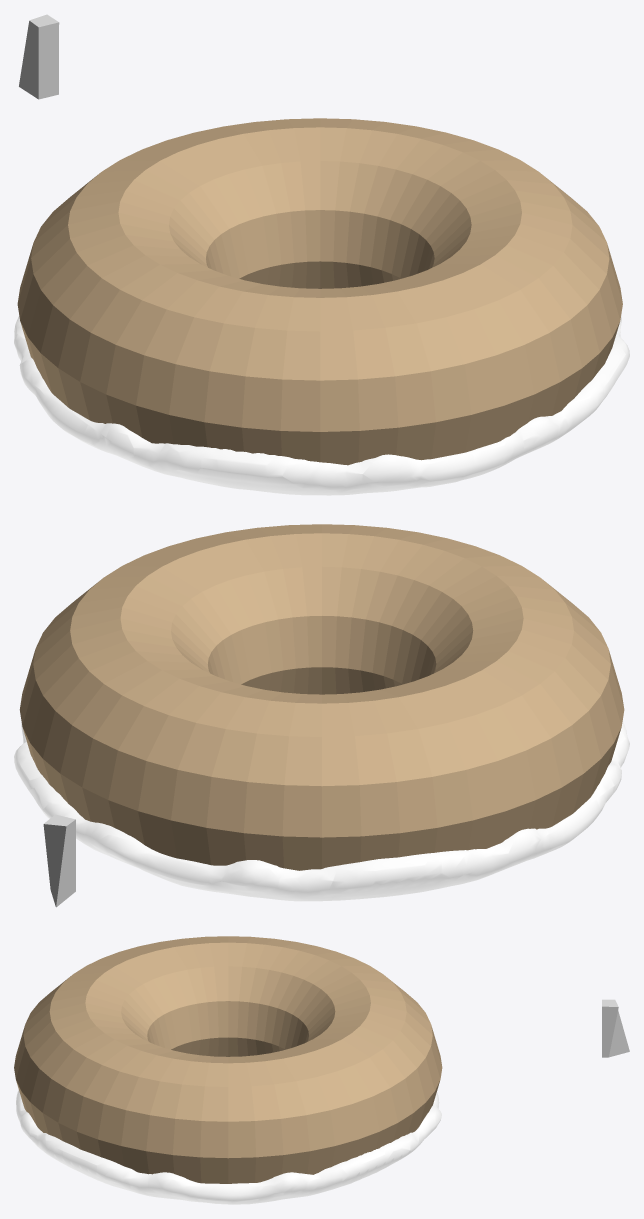
File: donut.glb
3 renders of one model, top to bottom at view 1: azimuth 30°, elevation 25°; view 2: azimuth 150°, elevation 25°; view 3: azimuth 270°, elevation 25°, orthographic. The views are drawn at different scales.
Parts seen in each view (by area): view 1: Torus.003, Liquid Domain, Cube; view 2: Torus.003, Liquid Domain, Cube; view 3: Torus.003, Liquid Domain, Cube.
Boxes of the visible parts, x1,y1,x2,y2 form: Torus.003: [17, 118, 622, 465]; Liquid Domain: [14, 316, 629, 495]; Cube: [19, 14, 59, 99]; Torus.003: [19, 524, 624, 870]; Liquid Domain: [14, 720, 629, 901]; Cube: [43, 814, 75, 907]; Torus.003: [14, 936, 442, 1183]; Liquid Domain: [16, 1090, 441, 1204]; Cube: [602, 999, 629, 1057].
Size of the model in its own units: 3.01 by 1.02 by 4.31.
